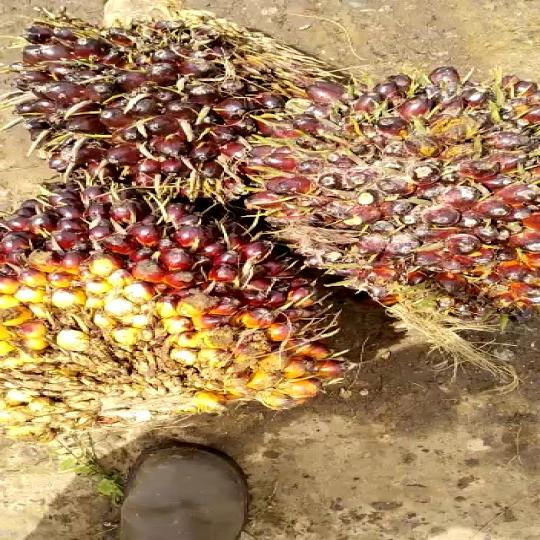kurang masak: (0, 170, 356, 454), (244, 70, 540, 321), (19, 2, 340, 176)
